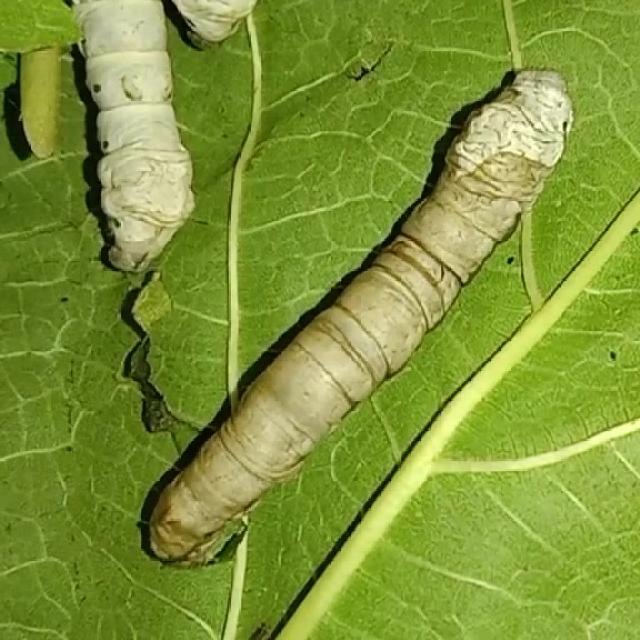Grasserie: (144, 53, 572, 559)
